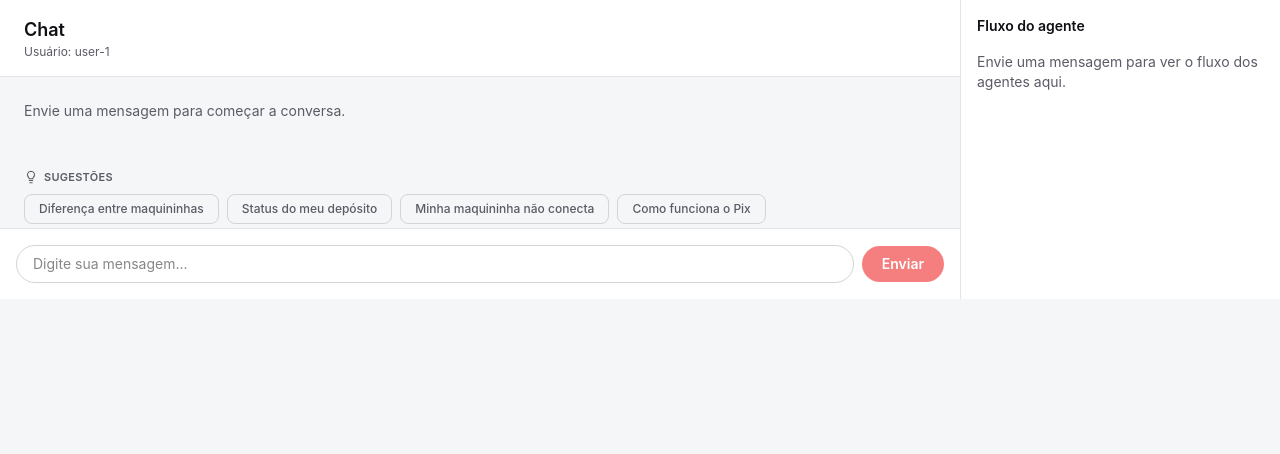
Scenario: ChatPage › submitting feedback posts the trace_id/agent_used and reflects submitted state
The width and height of the screenshot is (1280, 454).
Type "qual a diferença?" into the field labelled "mensagem".
click(435, 264); type("qual a diferença?")  # box [16, 244, 854, 282]
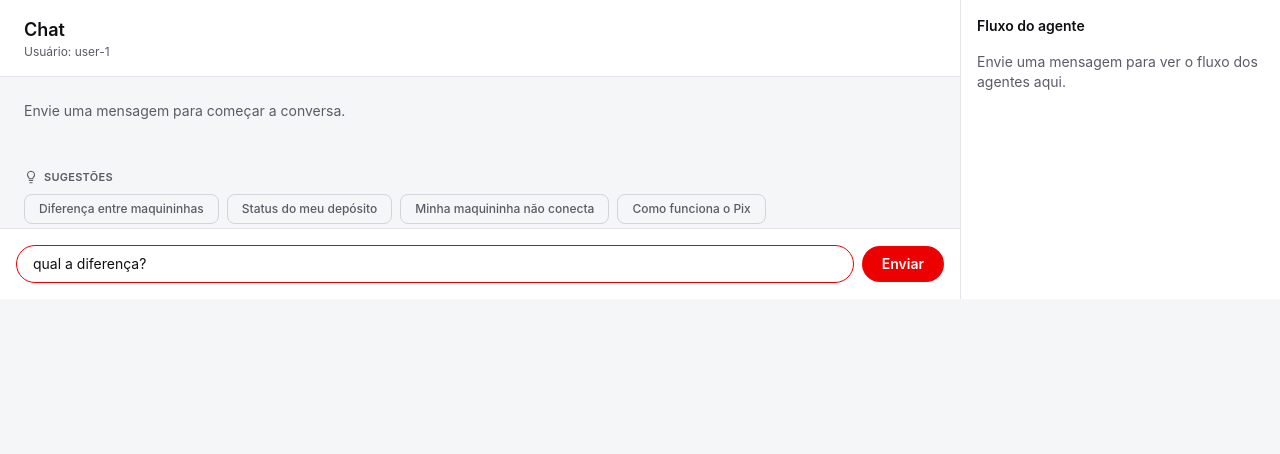
Click the button "Enviar".
click(903, 264)  # box [862, 246, 944, 282]
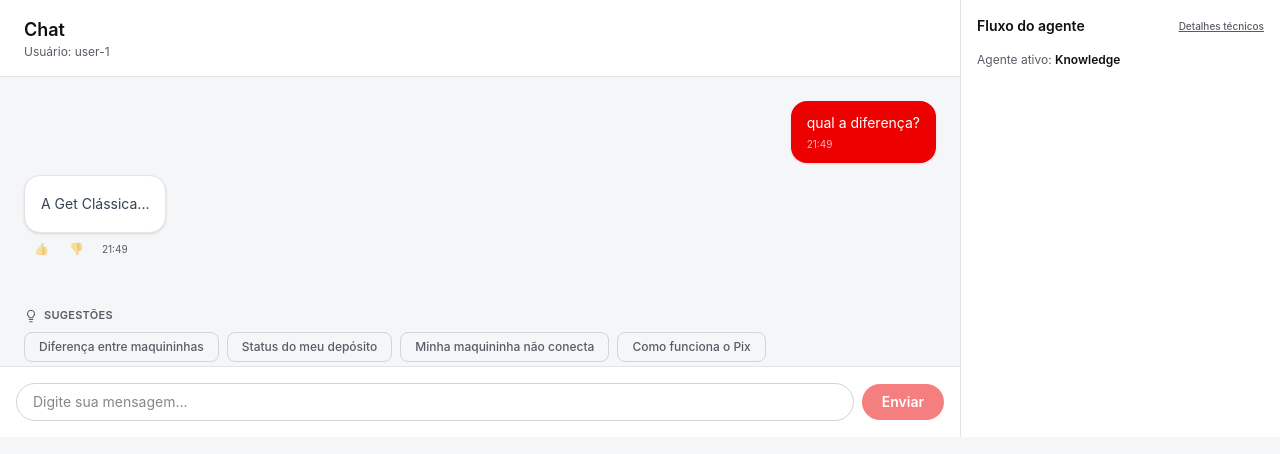
Click the button named "Avaliar positivamente".
click(42, 249)  # box [28, 239, 55, 259]
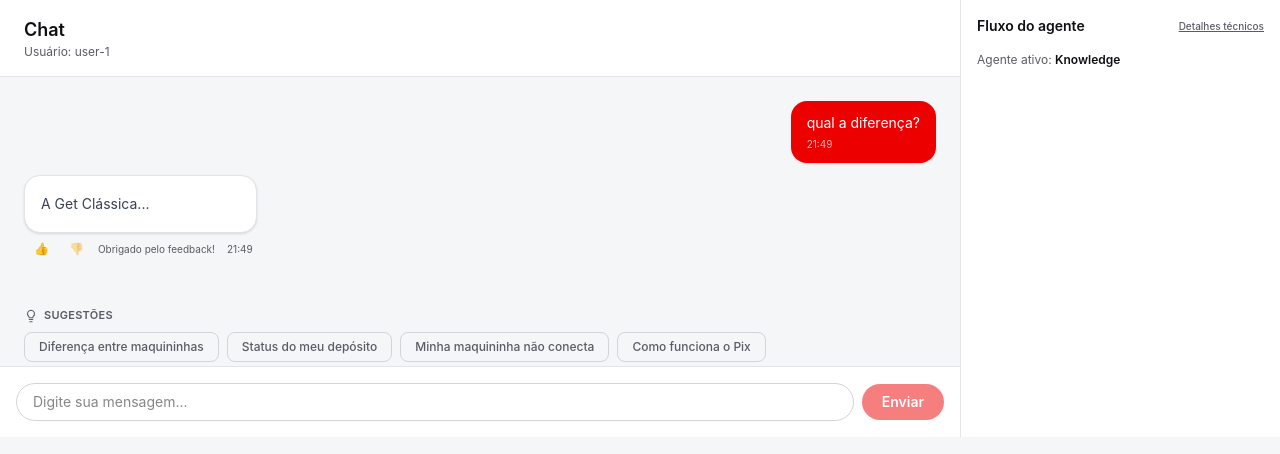
Result: the text "Obrigado pelo feedback!" is shown at [98, 242, 215, 257]
Result: the button named "Avaliar positivamente" is disabled at [28, 239, 55, 259]
